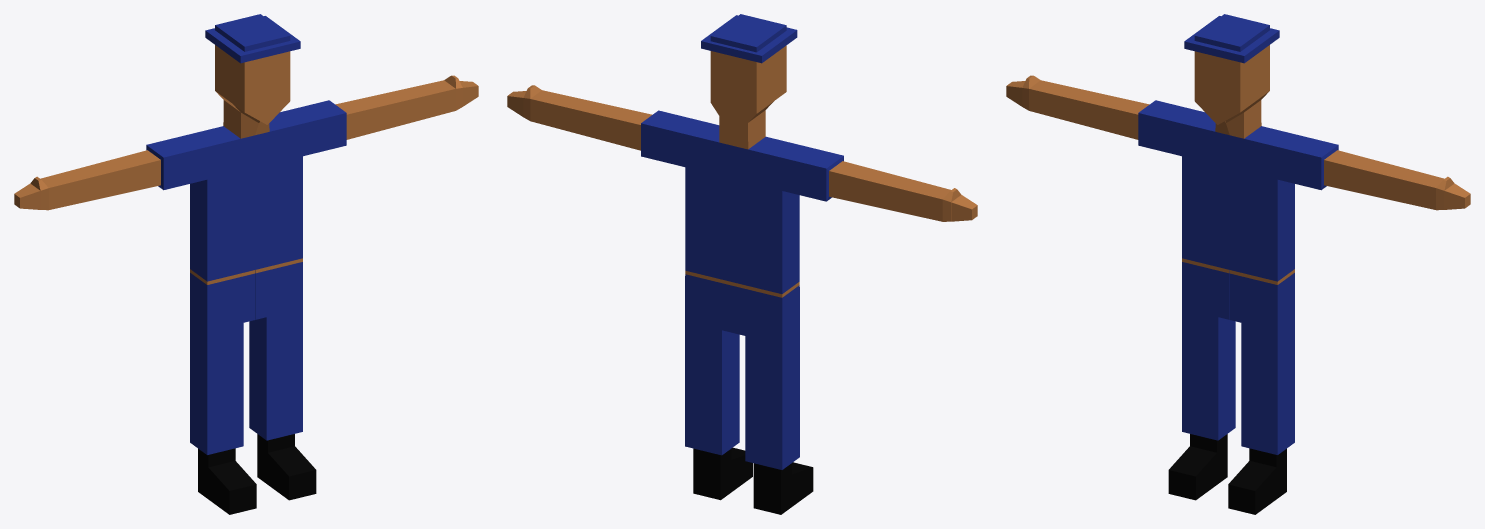
The model's file is Human_Police.fbx.
The picture shows the model from 3 angles, left to right: view 1: azimuth 30°, elevation 25°; view 2: azimuth 150°, elevation 25°; view 3: azimuth 330°, elevation 25°; orthographic projection.
Visible parts, largest first — view 1: Cube; view 2: Cube; view 3: Cube.
Boxes of the visible parts, x1,y1,x2,y2 form: Cube: (14, 14, 478, 514); Cube: (507, 14, 977, 514); Cube: (1006, 14, 1470, 514).
Bounding box in the file's own units: 2015 × 1927 × 285.
